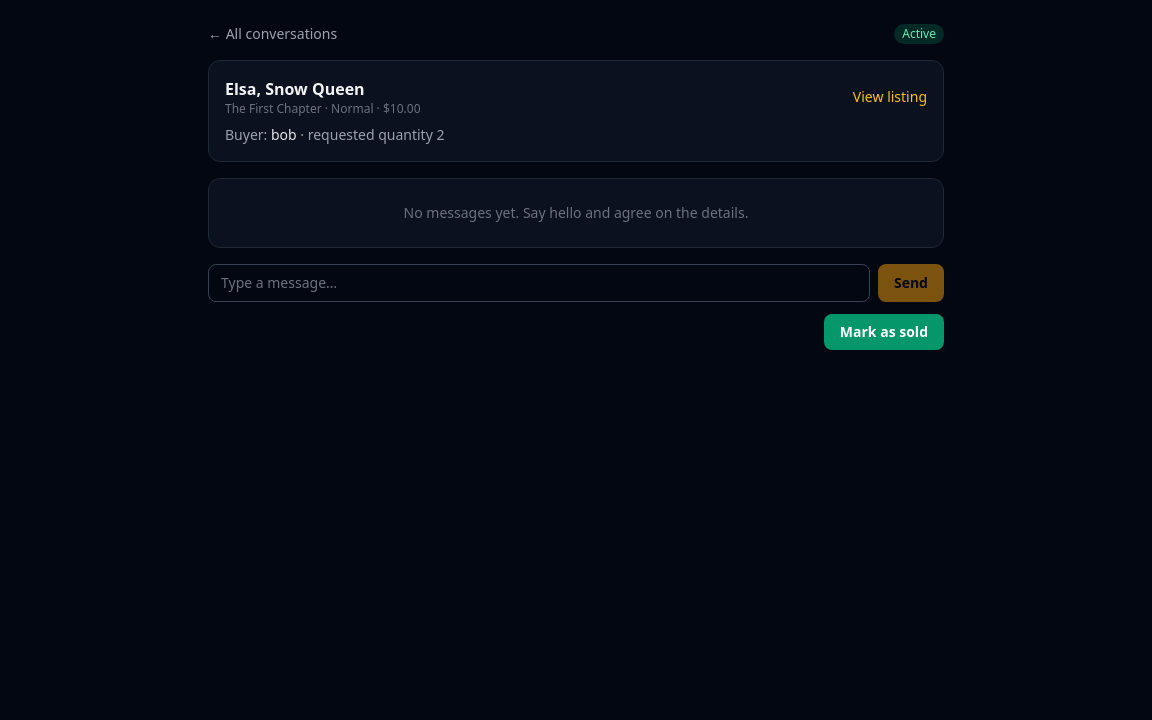
Test: MarketplaceChatThreadPage › gives the seller a mark-sold dialog defaulted to the requested quantity (REQ-14)
Click the button "Mark as sold" at (884, 332), box x1=824 y1=314 x2=944 y2=350
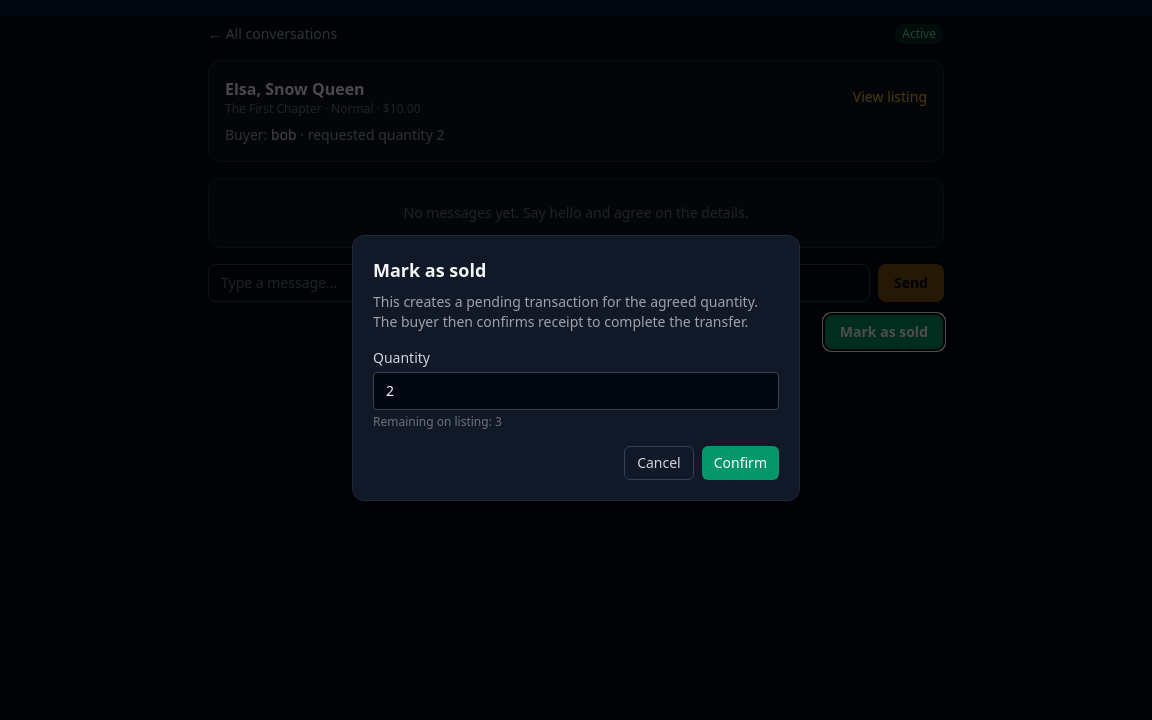
Check: the dialog "Mark as sold" is shown, box x1=352 y1=235 x2=800 y2=501
Check: the number field labelled "Quantity" holds "2", box x1=373 y1=372 x2=779 y2=410
